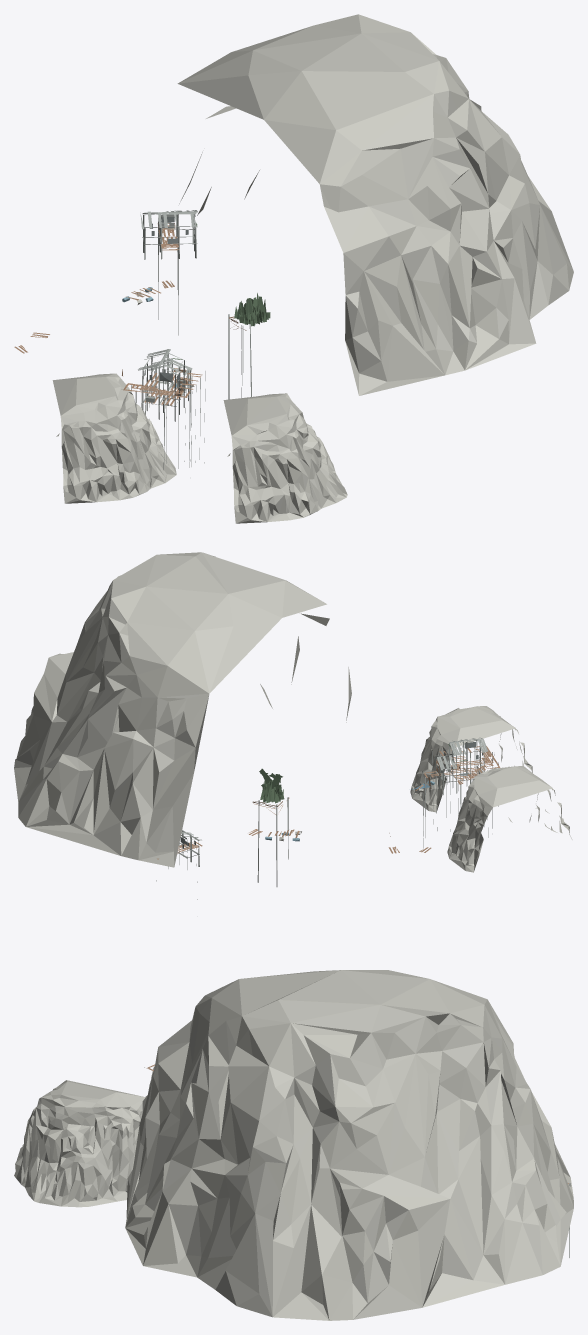
Rendered from swamp_c.glb.
3 views of the same model, one above another, from view 1: azimuth 30°, elevation 25°; view 2: azimuth 150°, elevation 25°; view 3: azimuth 270°, elevation 25° (orthographic). The views are drawn at different scales.
Visible parts, largest first — view 1: ground_cloth_a_LOD0, wooden_walkway_large_edge_corner_600x600_LOD0, reeds_dead_LOD0; view 2: ground_cloth_a_LOD0, wooden_walkway_large_edge_corner_600x600_LOD0, reeds_dead_LOD0; view 3: ground_cloth_a_LOD0.
Boxes of the visible parts, x1,y1,x2,y2 form: ground_cloth_a_LOD0: (52, 14, 573, 523); wooden_walkway_large_edge_corner_600x600_LOD0: (14, 210, 251, 469); reeds_dead_LOD0: (173, 223, 270, 359); ground_cloth_a_LOD0: (14, 552, 572, 872); wooden_walkway_large_edge_corner_600x600_LOD0: (156, 737, 500, 899); reeds_dead_LOD0: (259, 744, 467, 803); ground_cloth_a_LOD0: (14, 970, 573, 1320).
Bounding box in the file's own units: 113 × 64.13 × 96.64.
